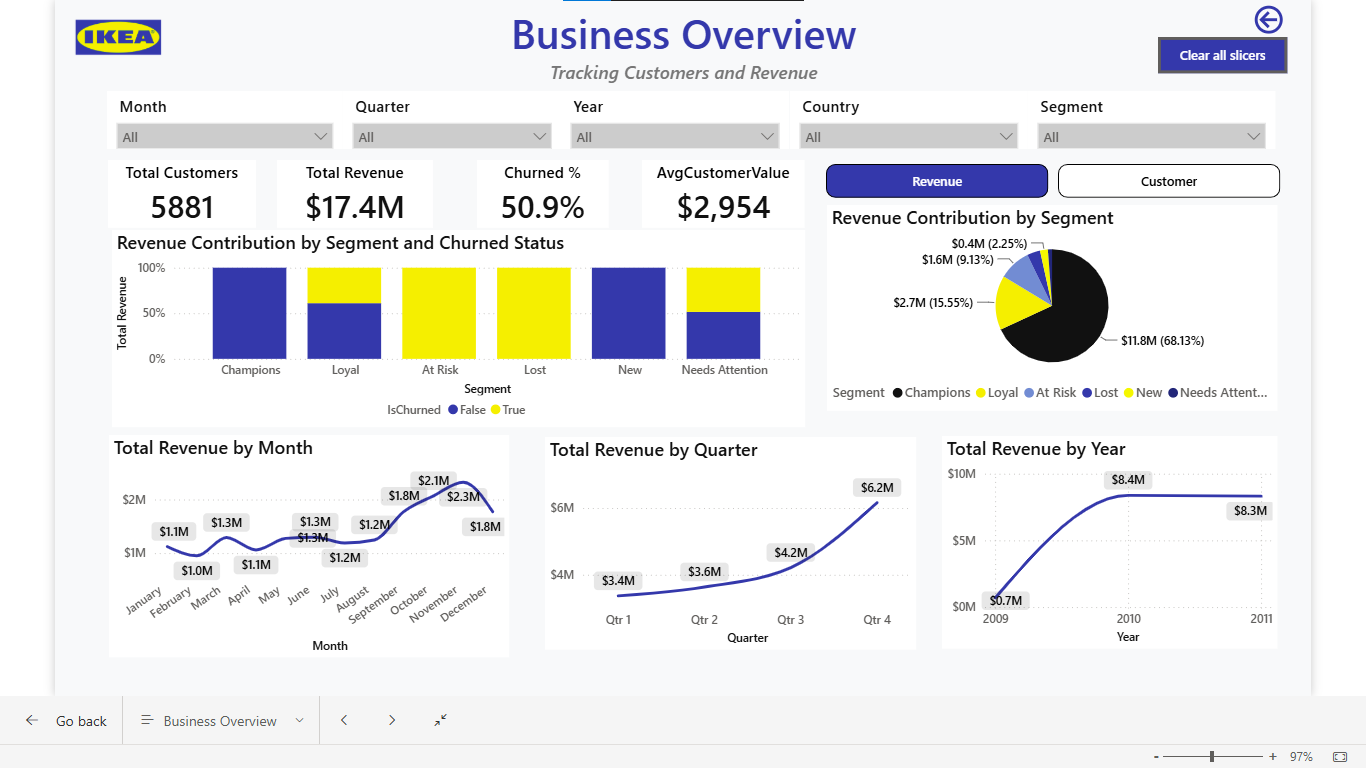

The page's visual inventory and layout, read from the dashboard file:
{"tool":"powerbi","page":{"name":"Business Overview","canvas":[1300,720],"ordinal":1},"visuals":[{"type":"cardVisual","fields":{"Data":["Measures (2).Avg Customer Value"]},"box":[607,166,168,70],"z":0},{"type":"pieChart","title":"Customer Distribution by Segment","fields":{"Category":["Sheet1.Segment"],"Y":["Measures (2).Total Customers"]},"box":[774.1,211.7,487.1,235.7],"z":0,"group":"g1"},{"type":"cardVisual","fields":{"Data":["Measures (2).Churned %"]},"box":[437,166,136,70],"z":1000},{"type":"lineChart","fields":{"Y":["Measures (2).Total Customers"],"Category":["Sheet1.InvoiceDate.Variation.Date Hierarchy.Year","Sheet1.InvoiceDate.Variation.Date Hierarchy.Quarter","Sheet1.InvoiceDate.Variation.Date Hierarchy.Month","Sheet1.InvoiceDate.Variation.Date Hierarchy.Day"]},"box":[915.8,455.7,347.1,220],"z":1000,"group":"g1"},{"type":"cardVisual","fields":{"Data":["Measures (2).Total Revenue"]},"box":[230,166,161,70],"z":2000},{"type":"lineChart","fields":{"Y":["Measures (2).Total Customers"],"Category":["Sheet1.InvoiceMonth.Variation.Date Hierarchy.Year","Sheet1.InvoiceMonth.Variation.Date Hierarchy.Month"]},"box":[53.9,452.1,415.3,229.6],"z":2000,"group":"g1"},{"type":"slicer","fields":{"Values":["Sheet1.InvoiceDate.Variation.Date Hierarchy.Month"]},"box":[53.8,94,243.8,60],"z":3000},{"type":"lineChart","fields":{"Y":["Measures (2).Total Customers"],"Category":["Sheet1.InvoiceDate.Variation.Date Hierarchy.Year","Sheet1.InvoiceDate.Variation.Date Hierarchy.Quarter"]},"box":[505.8,455.7,384.3,220],"z":3000,"group":"g1"},{"type":"slicer","fields":{"Values":["Sheet1.Country"]},"box":[760,94,246.2,60],"z":4000},{"type":"hundredPercentStackedColumnChart","title":"Customer Distribution by Segment and Churn Status","fields":{"Category":["Sheet1.Segment"],"Y":["Measures (2).Total Customers"],"Series":["Sheet1.IsChurned"]},"box":[55.5,239.2,702.9,204.3],"z":4000,"group":"g1"},{"type":"slicer","fields":{"Values":["Sheet1.InvoiceDate.Variation.Date Hierarchy.Year"]},"box":[523.8,94,236.2,60],"z":5000},{"type":"slicer","fields":{"Values":["Sheet1.InvoiceDate.Variation.Date Hierarchy.Quarter"]},"box":[297.5,94,226.2,60],"z":6000},{"type":"slicer","fields":{"Values":["Sheet1.IsChurned"]},"box":[1414,142,266,95],"z":7000},{"type":"slicer","fields":{"Values":["Sheet1.Segment"]},"box":[1006.2,94,256.2,60],"z":8000},{"type":"cardVisual","fields":{"Data":["Measures (2).Total Customers"]},"box":[54.4,165.6,153.3,70],"z":9000},{"type":"group","id":"g1","title":"Customers","box":[53.9,211.7,1209,470],"z":11000},{"type":"textbox","box":[353.3,0,593.3,98.3],"z":12000},{"type":"image","box":[0,0,131.7,76.7],"z":13000},{"type":"actionButton","box":[1236.2,0,38.8,40],"z":14000},{"type":"actionButton","box":[1141.2,38.8,133.8,37.5],"z":15000},{"type":"bookmarkNavigator","box":[797.1,170,470,35.7],"z":16000}]}

Visuals, with their boxes on the page's 1300x720 design canvas (x1, y1, x2, y2). These are canvas units, not pixel positions in the 1366x768 screenshot, which may show the page scaled, cropped or inside an application window:
cardVisual - Measures (2).Avg Customer Value: (x1=607, y1=166, x2=775, y2=236)
"Customer Distribution by Segment" pieChart: (x1=774, y1=212, x2=1261, y2=447)
cardVisual - Measures (2).Churned %: (x1=437, y1=166, x2=573, y2=236)
lineChart - Measures (2).Total Customers x Sheet1.InvoiceDate.Variation.Date Hierarchy.Year: (x1=916, y1=456, x2=1263, y2=676)
cardVisual - Measures (2).Total Revenue: (x1=230, y1=166, x2=391, y2=236)
lineChart - Measures (2).Total Customers x Sheet1.InvoiceMonth.Variation.Date Hierarchy.Year: (x1=54, y1=452, x2=469, y2=682)
slicer - Sheet1.InvoiceDate.Variation.Date Hierarchy.Month: (x1=54, y1=94, x2=298, y2=154)
lineChart - Measures (2).Total Customers x Sheet1.InvoiceDate.Variation.Date Hierarchy.Year: (x1=506, y1=456, x2=890, y2=676)
slicer - Sheet1.Country: (x1=760, y1=94, x2=1006, y2=154)
"Customer Distribution by Segment and Churn Status" hundredPercentStackedColumnChart: (x1=56, y1=239, x2=758, y2=444)
slicer - Sheet1.InvoiceDate.Variation.Date Hierarchy.Year: (x1=524, y1=94, x2=760, y2=154)
slicer - Sheet1.InvoiceDate.Variation.Date Hierarchy.Quarter: (x1=298, y1=94, x2=524, y2=154)
slicer - Sheet1.IsChurned: (x1=1414, y1=142, x2=1680, y2=237)
slicer - Sheet1.Segment: (x1=1006, y1=94, x2=1262, y2=154)
cardVisual - Measures (2).Total Customers: (x1=54, y1=166, x2=208, y2=236)
"Customers" group: (x1=54, y1=212, x2=1263, y2=682)
textbox: (x1=353, y1=0, x2=947, y2=98)
image: (x1=0, y1=0, x2=132, y2=77)
actionButton: (x1=1236, y1=0, x2=1275, y2=40)
actionButton: (x1=1141, y1=39, x2=1275, y2=76)
bookmarkNavigator: (x1=797, y1=170, x2=1267, y2=206)
